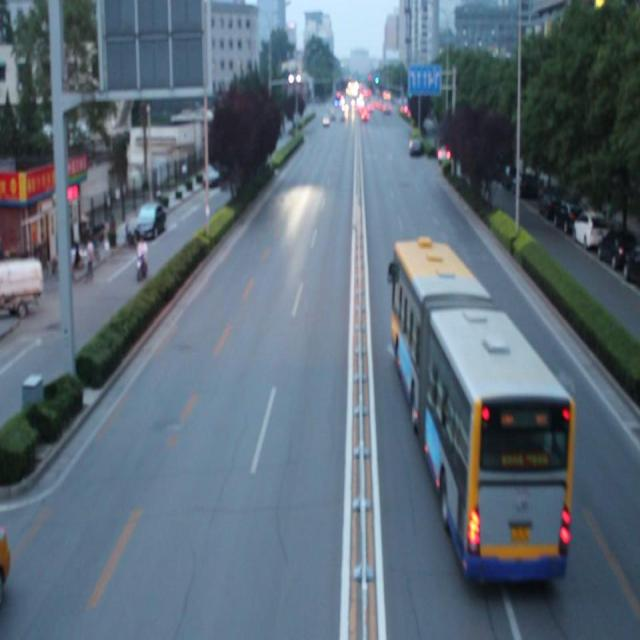van: (392, 238, 566, 576)
